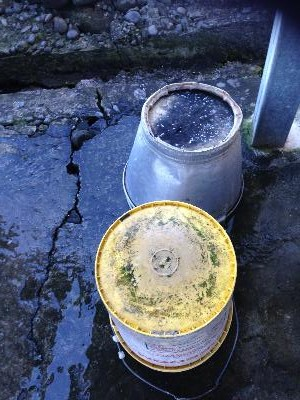bucket: (92, 199, 239, 378), (118, 81, 250, 226)
